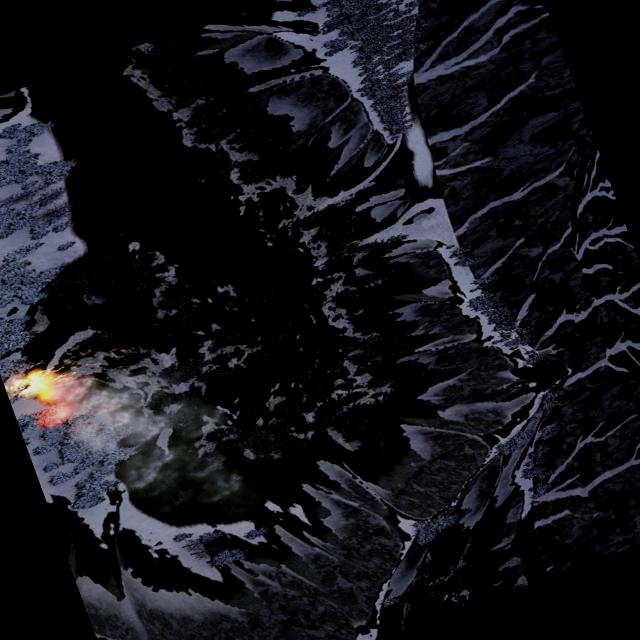fire: (8, 362, 64, 412)
smoke: (7, 328, 254, 560)
